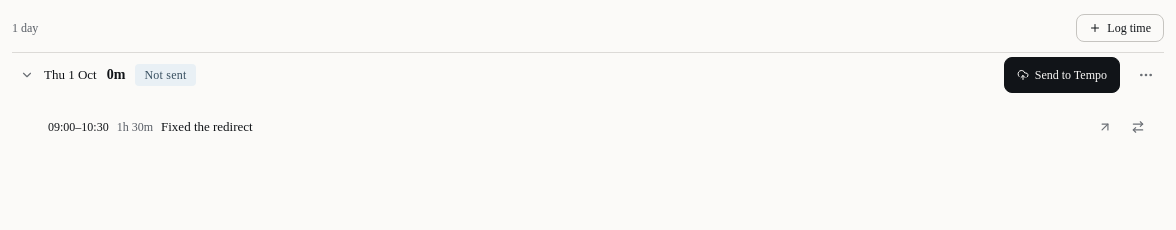
Scenario: Regenerate text with AI › is disabled with a reason when the day has no Tempo line
What coordinates should you click on to do the following:
click the button named "More for Thu 1 Oct"
I would click on:
 (1146, 75)
Its box is [1128,57,1164,93].
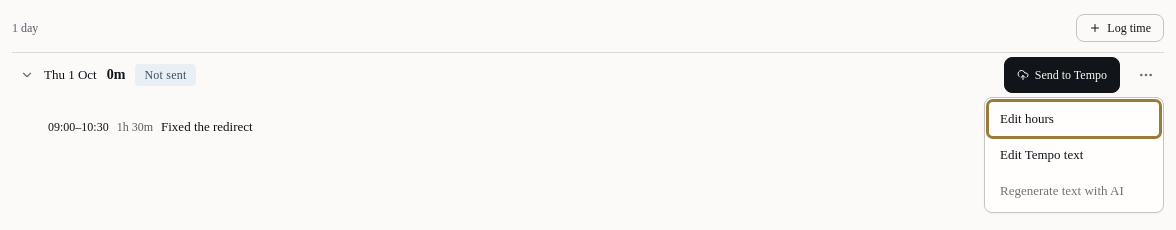
Result: the menu item "Regenerate text with AI" is disabled at [989,174,1159,208]
